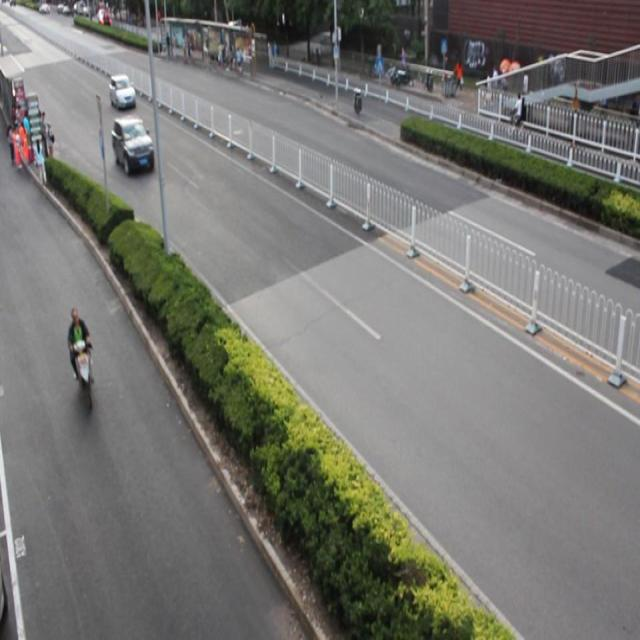car: (112, 117, 156, 176), (110, 74, 136, 111)
